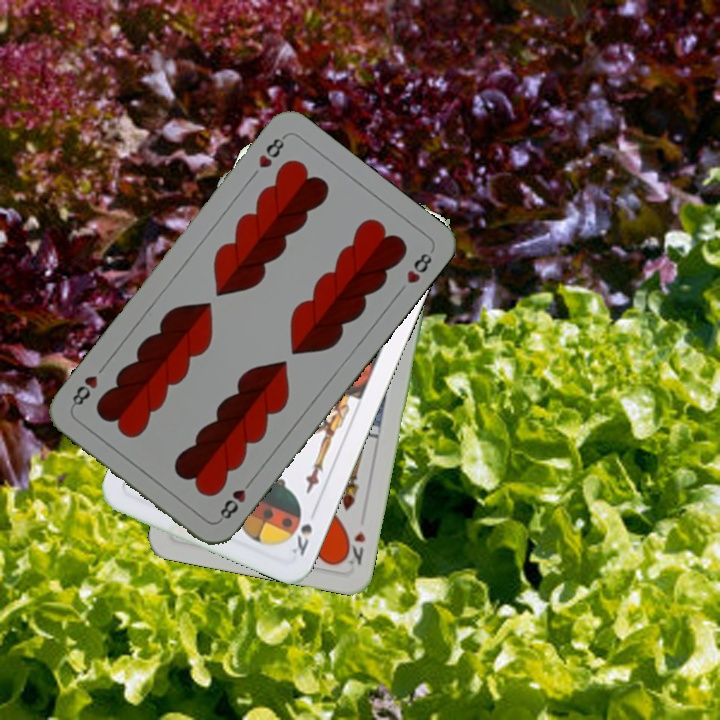H8: (216, 474, 256, 524), (254, 131, 289, 171)
HK: (339, 527, 368, 568)
SK: (286, 519, 315, 559)
